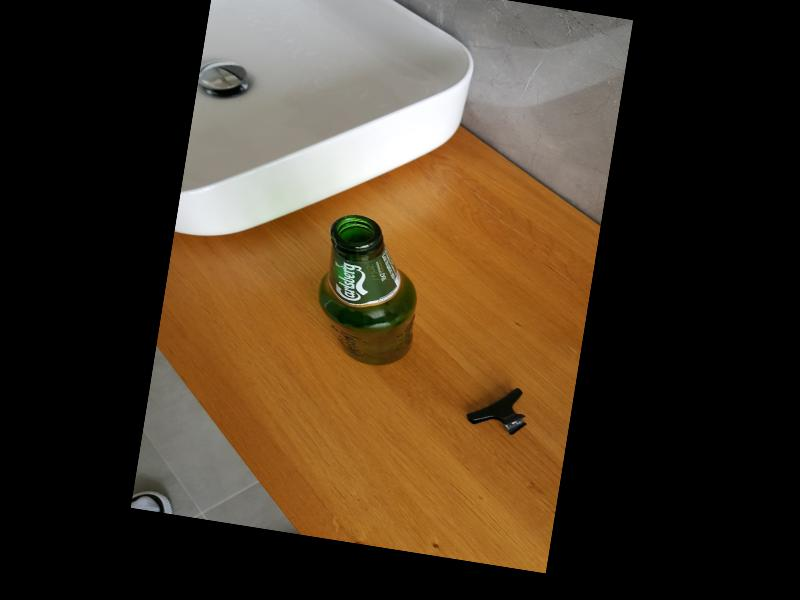Beer: (309, 212, 428, 371)
